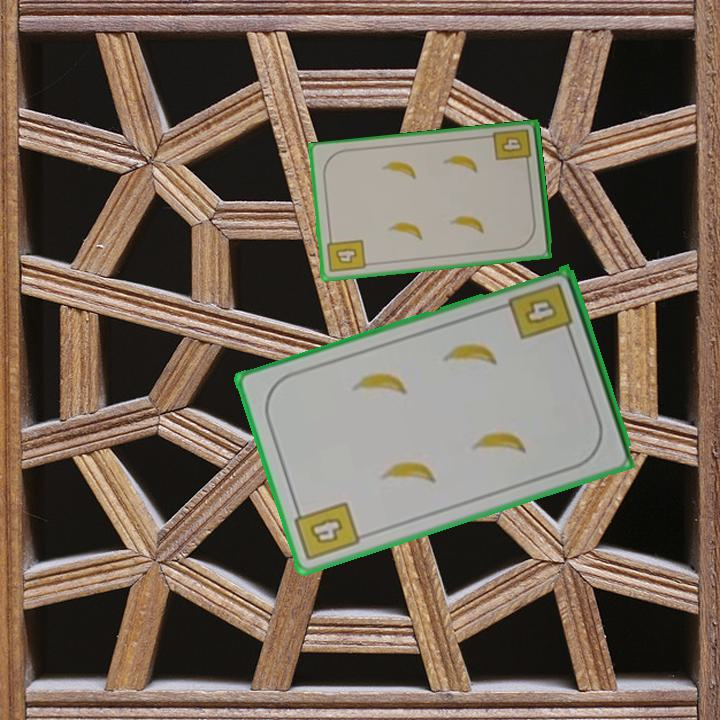4b: (290, 498, 363, 564), (505, 279, 576, 343), (490, 125, 534, 170), (324, 232, 368, 276)
